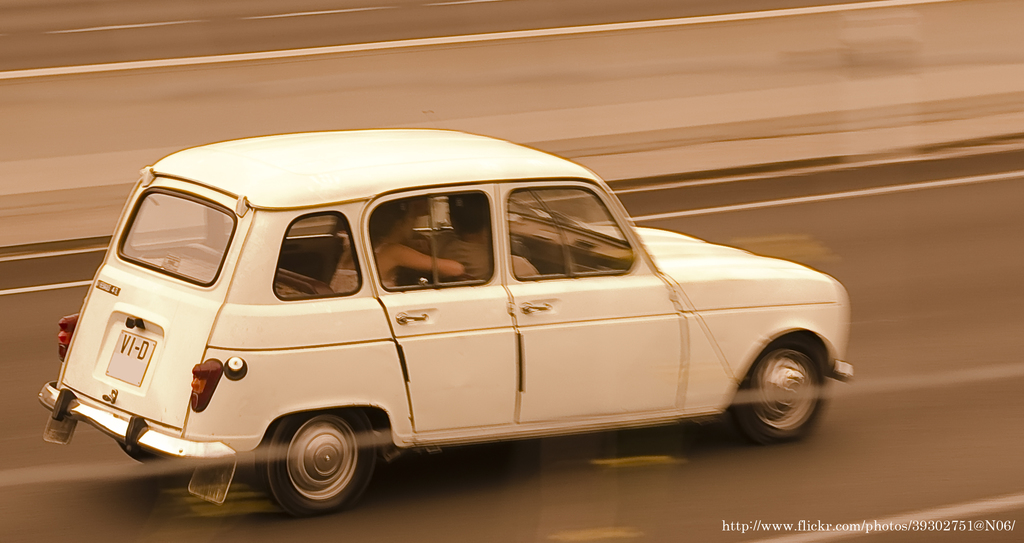Car: (43, 129, 858, 514)
